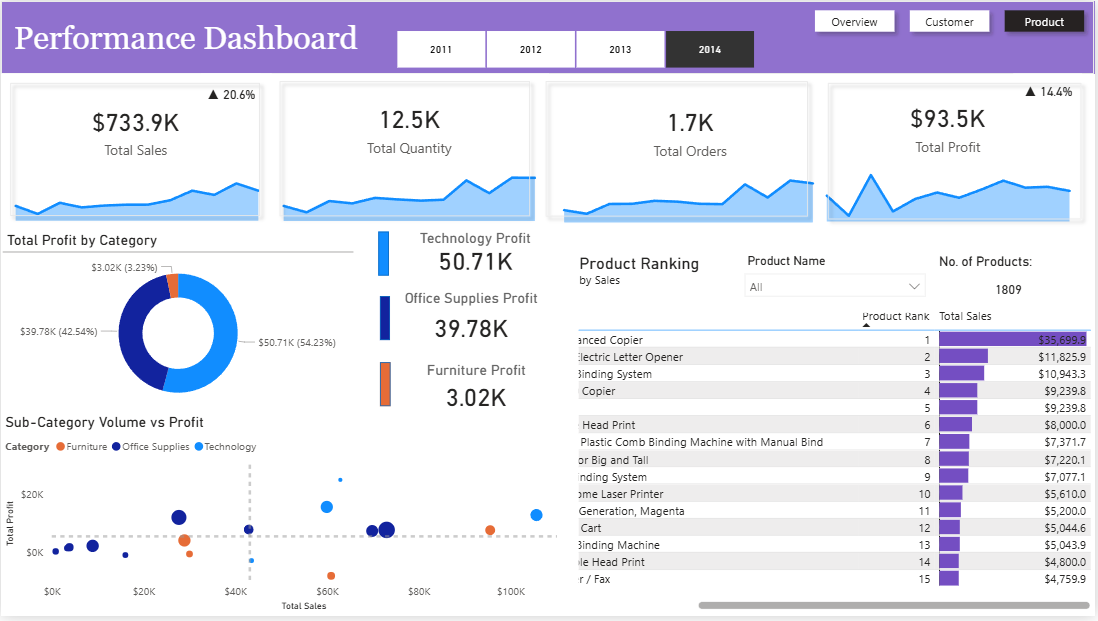

What the dashboard file says about the page in this screenshot:
{"tool":"powerbi","page":{"name":"Product","canvas":[1280,720],"ordinal":2},"visuals":[{"type":"group","id":"g1","title":"Group 1","box":[0,0,1280,85.3],"z":0},{"type":"shape","box":[0,0,1280,85.3],"z":0,"group":"g1"},{"type":"card","fields":{"Values":["Measures_Table.Total Sales"]},"box":[0,85.3,315.2,130.6],"z":0,"group":"g2"},{"type":"card","fields":{"Values":["Measures_Table.Total_quantity"]},"box":[315.2,85.3,325.3,125.5],"z":0,"group":"g3"},{"type":"card","fields":{"Values":["Measures_Table.Total_Order"]},"box":[644.4,87,322.1,128.9],"z":0,"group":"g4"},{"type":"card","fields":{"Values":["Measures_Table.Total_profit"]},"box":[950.9,87.2,313.9,119.2],"z":0,"group":"g5"},{"type":"slicer","fields":{"Values":["Dim_Date.Year"]},"box":[437.9,27.6,467.2,56.9],"z":1000,"group":"g1"},{"type":"lineChart","fields":{"Category":["Dim_Date.Month"],"Y":["Measures_Table.Total Profit"]},"box":[950.1,181.9,314.7,82.9],"z":1000,"group":"g5"},{"type":"lineChart","fields":{"Y":["Measures_Table.Total Sales"],"Category":["Dim_Date.Month"],"Series":["Dim_Date.Year"]},"box":[1.8,185.1,314.7,78.2],"z":1000,"group":"g2"},{"type":"lineChart","fields":{"Category":["Dim_Date.Month"],"Y":["Measures_Table.Total Order"]},"box":[643.3,186.3,322.1,78.4],"z":1000,"group":"g4"},{"type":"lineChart","fields":{"Y":["Measures_Table.Total Quantity"],"Category":["Dim_Date.Month"]},"box":[315.2,186.4,325.3,76.7],"z":1000,"group":"g3"},{"type":"scatterChart","title":"Sub-Category Volume vs Profit","fields":{"X":["Measures_Table.Total Sales"],"Y":["Measures_Table.Total Profit"],"Size":["Measures_Table.Total Quantity"],"Series":["Dim_Product.Category"],"Category":["Dim_Product.Sub-Category"]},"box":[0,483.6,672,236.4],"z":1000},{"type":"donutChart","fields":{"Y":["Measures_Table.Total Profit"],"Category":["Dim_Product.Category"]},"box":[2.2,269.6,410.8,213],"z":2000},{"type":"card","title":"Technology Profit","fields":{"Values":["Measures_Table.Technology Profit"]},"box":[453.3,268.4,204.4,51.6],"z":3000},{"type":"shape","box":[440.9,270.2,12.4,51.6],"z":4000},{"type":"card","title":"Office Supplies Profit","fields":{"Values":["Measures_Table.Office Supplies Profit"]},"box":[448,337.8,206.2,67.6],"z":5000},{"type":"card","title":"Furniture Profit","fields":{"Values":["Measures_Table.Furniture Profit"]},"box":[440.9,423.1,229.3,60.4],"z":6000},{"type":"shape","box":[442.7,344.9,12,51.6],"z":7000},{"type":"shape","box":[442.7,423.1,12.4,51.6],"z":8000},{"type":"group","id":"g2","title":"Group 2","box":[0,85.3,316.9,177.6],"z":9000},{"type":"group","id":"g3","title":"Group 3","box":[315.2,85.3,325.6,177.6],"z":10000},{"type":"group","id":"g4","title":"Group 4","box":[643.3,87,323.3,177.6],"z":11000},{"type":"group","id":"g5","title":"Group 5","box":[627.6,85.3,636.4,179.6],"z":12000},{"type":"tableEx","fields":{"Values":["Dim_Product.Product Name","Measures_Table.Product Rank","Measures_Table.Total Sales"]},"box":[670,352,610,364],"z":13000},{"type":"card","title":"No. of Products:","fields":{"Values":["Measures_Table.Product Count"]},"box":[1091.6,296.9,172.4,67.6],"z":14000},{"type":"slicer","fields":{"Values":["Dim_Product.Product Name"]},"box":[860.4,289.8,231.1,74.7],"z":15000},{"type":"textbox","box":[672,290,188,74],"z":16000},{"type":"card","fields":{"Values":["Measures_Table.Profit YoY Label"]},"box":[1184.1,85.3,80.1,45.3],"z":17000},{"type":"card","fields":{"Values":["Measures_Table.Sales YoY Label"]},"box":[233.3,85.3,69.7,50.5],"z":18000},{"type":"shape","box":[316.4,85.3,311.1,176],"z":19000},{"type":"shape","box":[958.2,87.1,314.7,177.8],"z":20000},{"type":"shape","box":[627.6,85.3,324.8,176.3],"z":20001,"group":"g5"},{"type":"pageNavigator","box":[944,2,334.3,43.5],"z":21000},{"type":"shape","box":[1.8,86.8,310.2,173.7],"z":22000}]}

Visuals, with their boxes in screenshot pixels (x1, y1, x2, y2), scaled from the page's 1280x720 canvas onto the 1098x621 screenshot:
"Group 1" group: box(0, 0, 1097, 74)
shape: box(0, 0, 1097, 74)
card - Measures_Table.Total Sales: box(0, 74, 270, 186)
card - Measures_Table.Total_quantity: box(270, 74, 549, 182)
card - Measures_Table.Total_Order: box(553, 75, 829, 186)
card - Measures_Table.Total_profit: box(816, 75, 1085, 178)
slicer - Dim_Date.Year: box(376, 24, 776, 73)
lineChart - Dim_Date.Month x Measures_Table.Total Profit: box(815, 157, 1085, 228)
lineChart - Measures_Table.Total Sales x Dim_Date.Month: box(2, 160, 271, 227)
lineChart - Dim_Date.Month x Measures_Table.Total Order: box(552, 161, 828, 228)
lineChart - Measures_Table.Total Quantity x Dim_Date.Month: box(270, 161, 549, 227)
"Sub-Category Volume vs Profit" scatterChart: box(0, 417, 576, 620)
donutChart - Measures_Table.Total Profit x Dim_Product.Category: box(2, 233, 354, 416)
"Technology Profit" card: box(389, 231, 564, 276)
shape: box(378, 233, 389, 278)
"Office Supplies Profit" card: box(384, 291, 561, 350)
"Furniture Profit" card: box(378, 365, 575, 417)
shape: box(380, 297, 390, 342)
shape: box(380, 365, 390, 409)
"Group 2" group: box(0, 74, 272, 227)
"Group 3" group: box(270, 74, 550, 227)
"Group 4" group: box(552, 75, 829, 228)
"Group 5" group: box(538, 74, 1084, 228)
tableEx - Dim_Product.Product Name x Measures_Table.Product Rank: box(575, 304, 1097, 618)
"No. of Products:" card: box(936, 256, 1084, 314)
slicer - Dim_Product.Product Name: box(738, 250, 936, 314)
textbox: box(576, 250, 738, 314)
card - Measures_Table.Profit YoY Label: box(1016, 74, 1084, 113)
card - Measures_Table.Sales YoY Label: box(200, 74, 260, 117)
shape: box(271, 74, 538, 225)
shape: box(822, 75, 1092, 228)
shape: box(538, 74, 817, 226)
pageNavigator: box(810, 2, 1097, 39)
shape: box(2, 75, 268, 225)
